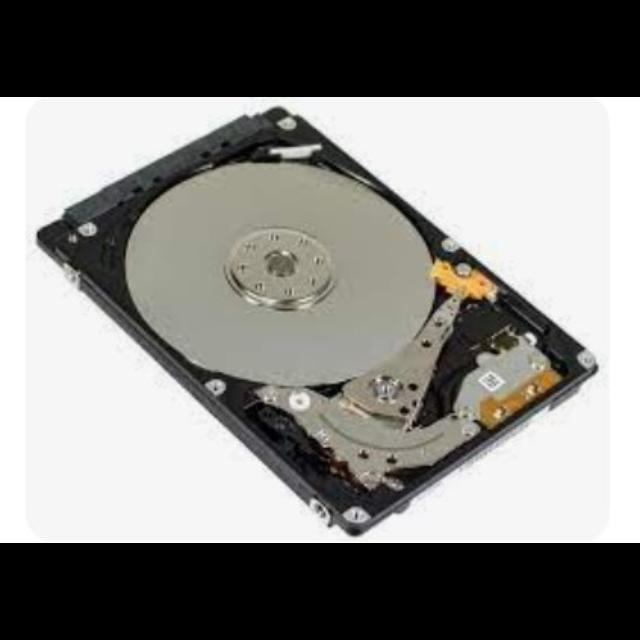HDD: (44, 108, 599, 537)
